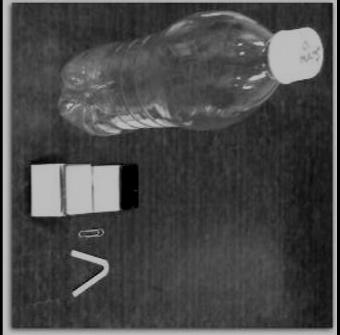bottle: (58, 10, 324, 136)
